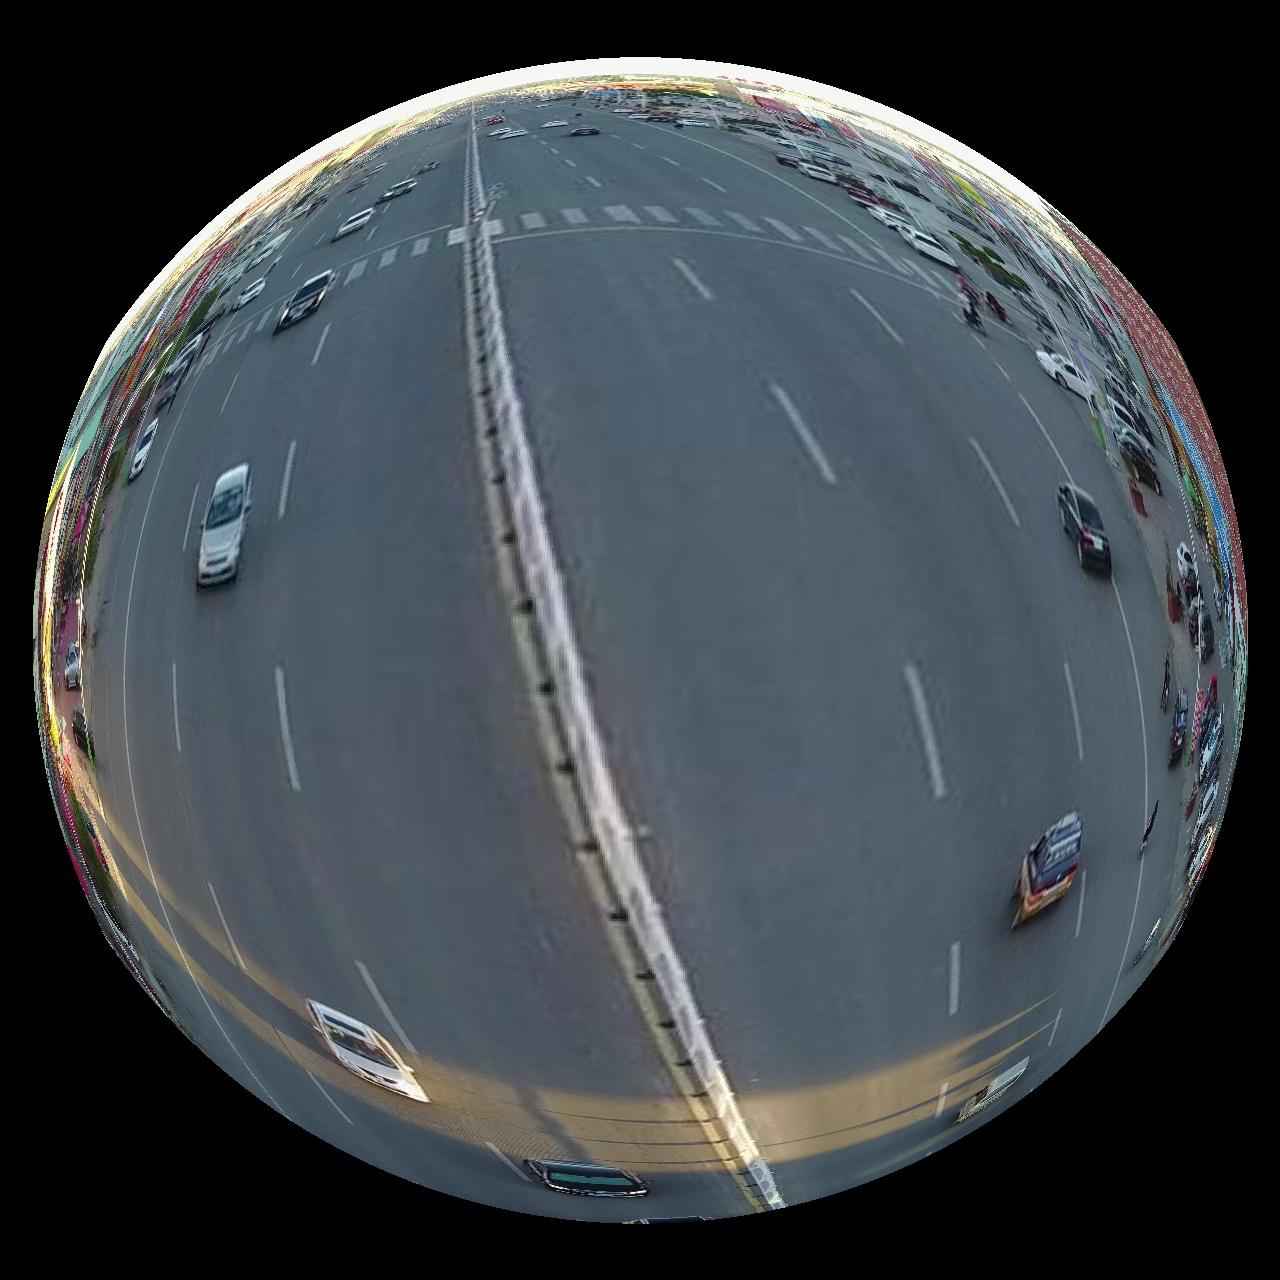building: (1046, 203, 1250, 652)
cars: (305, 1002, 429, 1105), (1016, 811, 1085, 928), (196, 463, 249, 586), (1059, 482, 1113, 574), (525, 1162, 649, 1200), (958, 1060, 1031, 1124), (273, 269, 337, 332), (1038, 348, 1097, 402), (331, 208, 375, 238), (379, 176, 417, 200), (569, 124, 601, 136)
